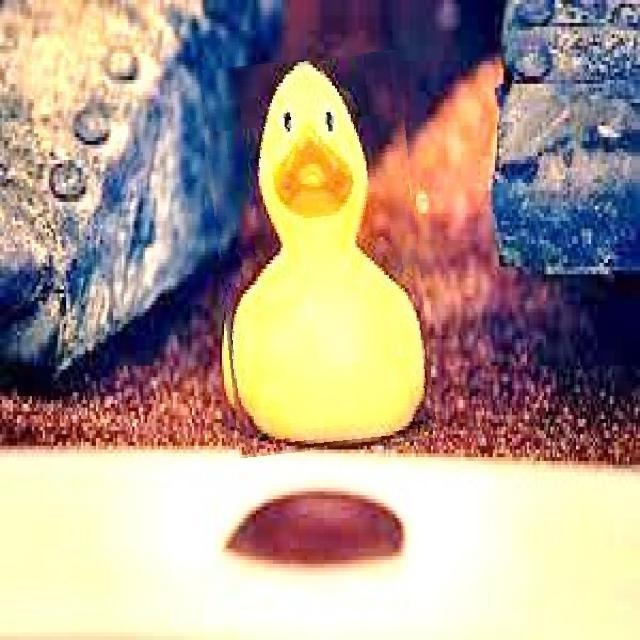rubber-duck: (221, 60, 423, 441)
